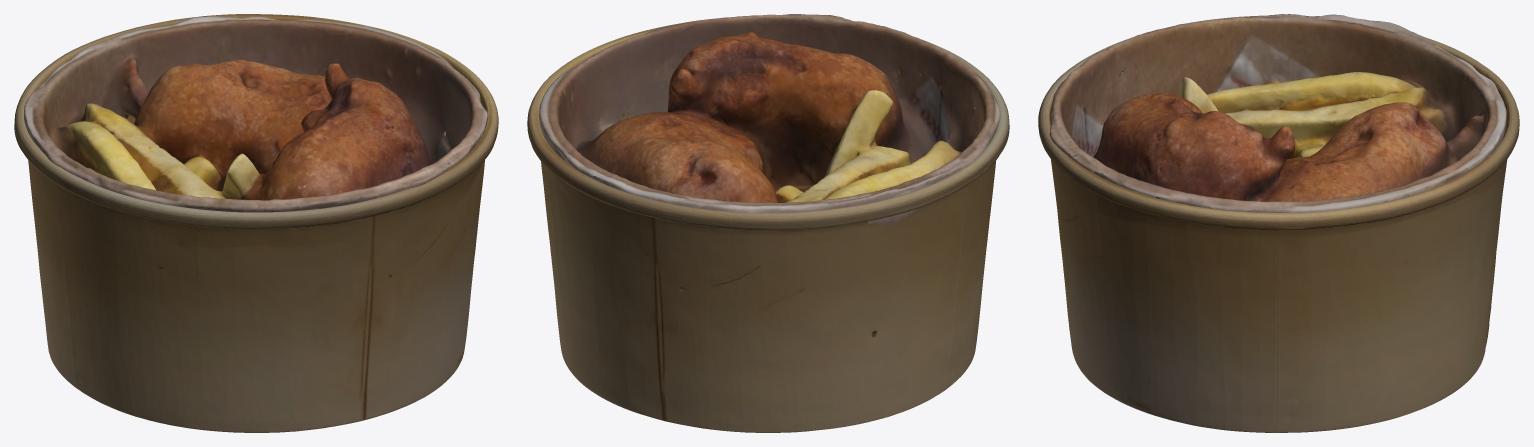
Rendered from bowl.chini-compressed.glb.
3 renders of one model, left to right at view 1: azimuth 30°, elevation 25°; view 2: azimuth 150°, elevation 25°; view 3: azimuth 270°, elevation 25°, orthographic.
Parts seen in each view (by area): view 1: bowl.chini.usdz; view 2: bowl.chini.usdz; view 3: bowl.chini.usdz.
Boxes of the visible parts, <box> form: bowl.chini.usdz: <box>14,14,498,432</box>; bowl.chini.usdz: <box>527,14,1009,432</box>; bowl.chini.usdz: <box>1038,14,1519,432</box>.
Bounding box in the file's own units: 0.2265 × 0.1385 × 0.2264.
2 materials, 2 textured.
